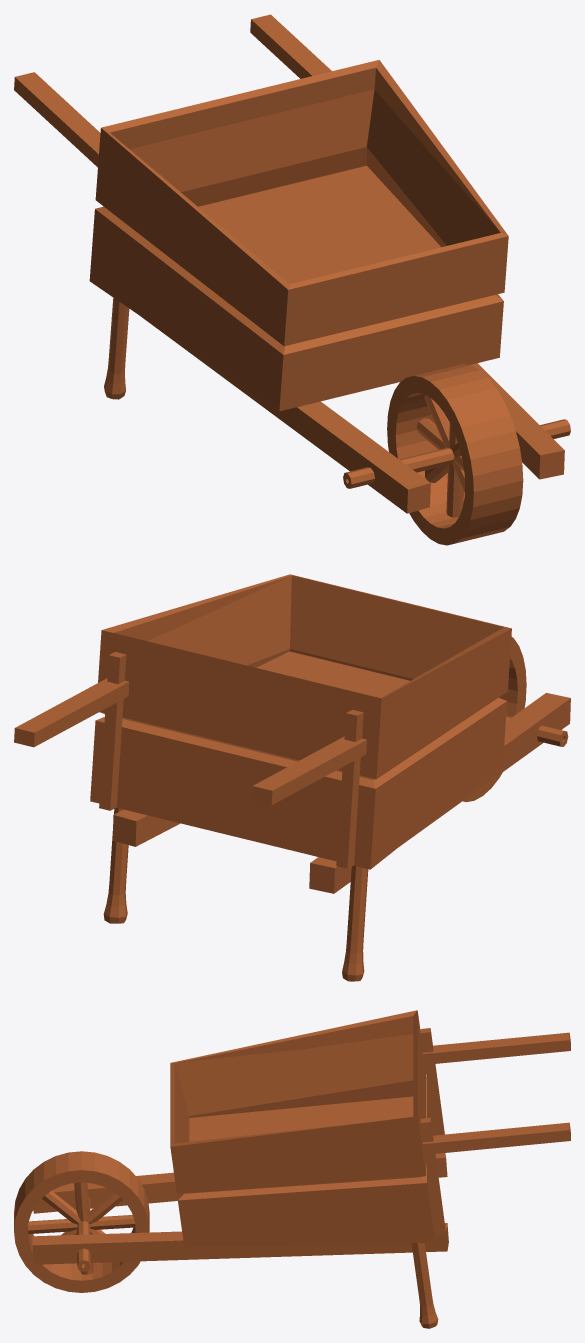
The model's file is Brouette_vide.fbx.
3 renders of one model, top to bottom at view 1: azimuth 30°, elevation 25°; view 2: azimuth 150°, elevation 25°; view 3: azimuth 270°, elevation 25°, orthographic. The views are drawn at different scales.
Visible parts, largest first — view 1: Brouette; view 2: Brouette; view 3: Brouette.
Boxes of the visible parts, x1=… form: Brouette: x1=14, y1=14, x2=570, y2=545; Brouette: x1=14, y1=574, x2=570, y2=981; Brouette: x1=14, y1=1010, x2=570, y2=1328.
Bounding box in the file's own units: 200 × 194 × 444.
